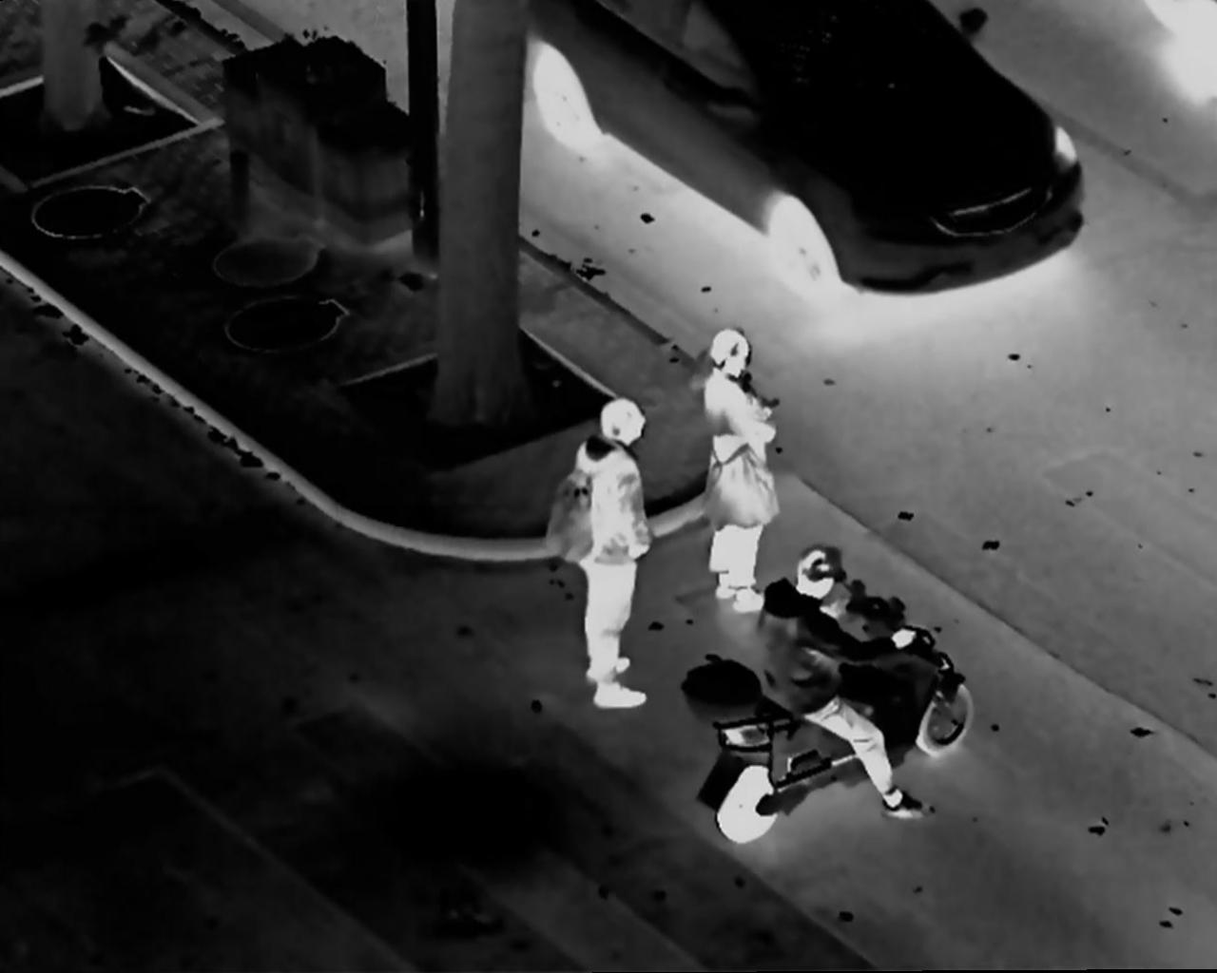person: (759, 545, 947, 828), (540, 392, 657, 711), (697, 326, 786, 615)
